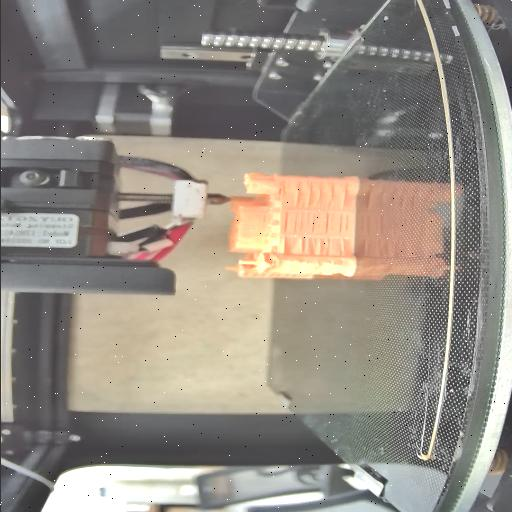cracks: (297, 236, 345, 258), (293, 178, 321, 208), (282, 211, 314, 235), (322, 212, 346, 236), (327, 184, 349, 210), (279, 236, 287, 254)
